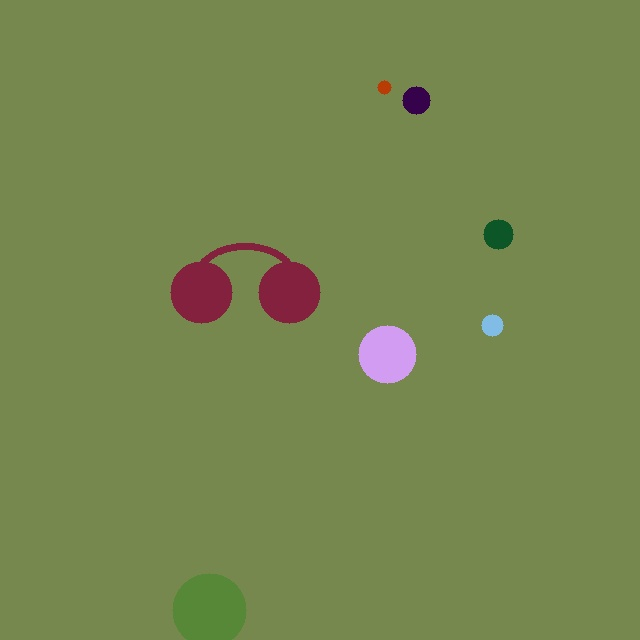over_ear: (166, 231, 324, 327)
